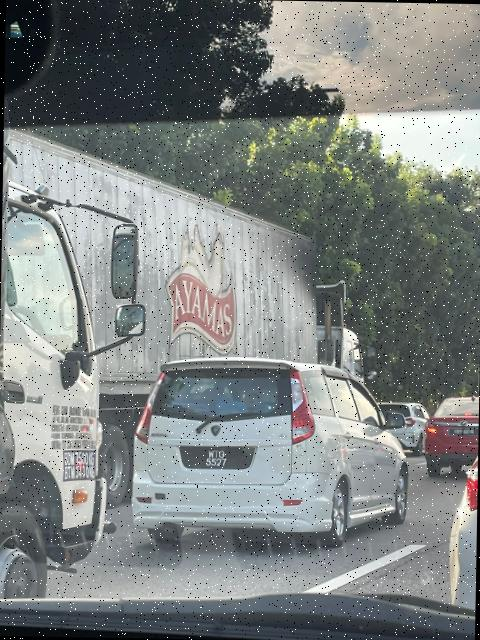License_Plate: (187, 446, 246, 473)
car: (137, 360, 410, 560)
